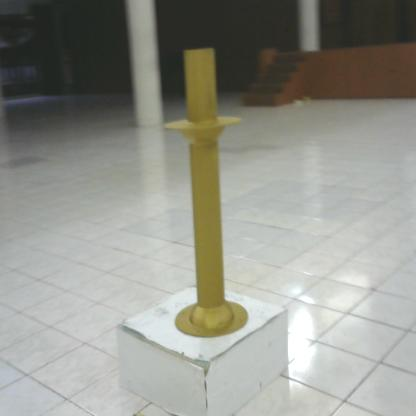pole: (159, 41, 256, 346)
